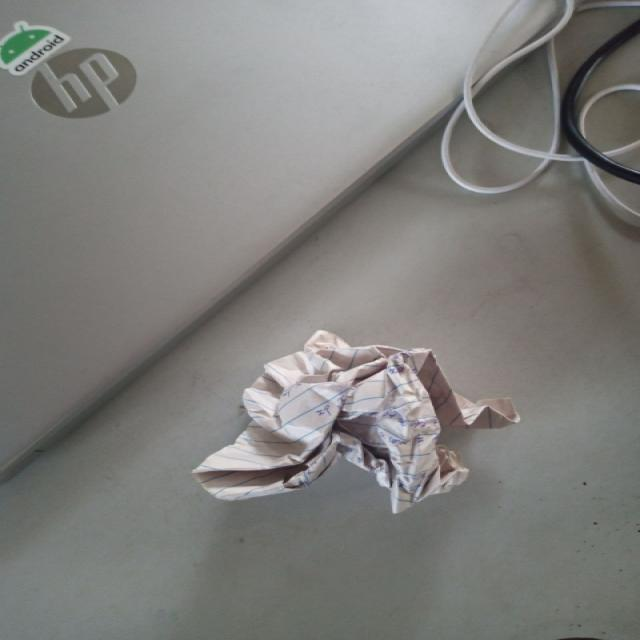Paper: (192, 331, 519, 518)
